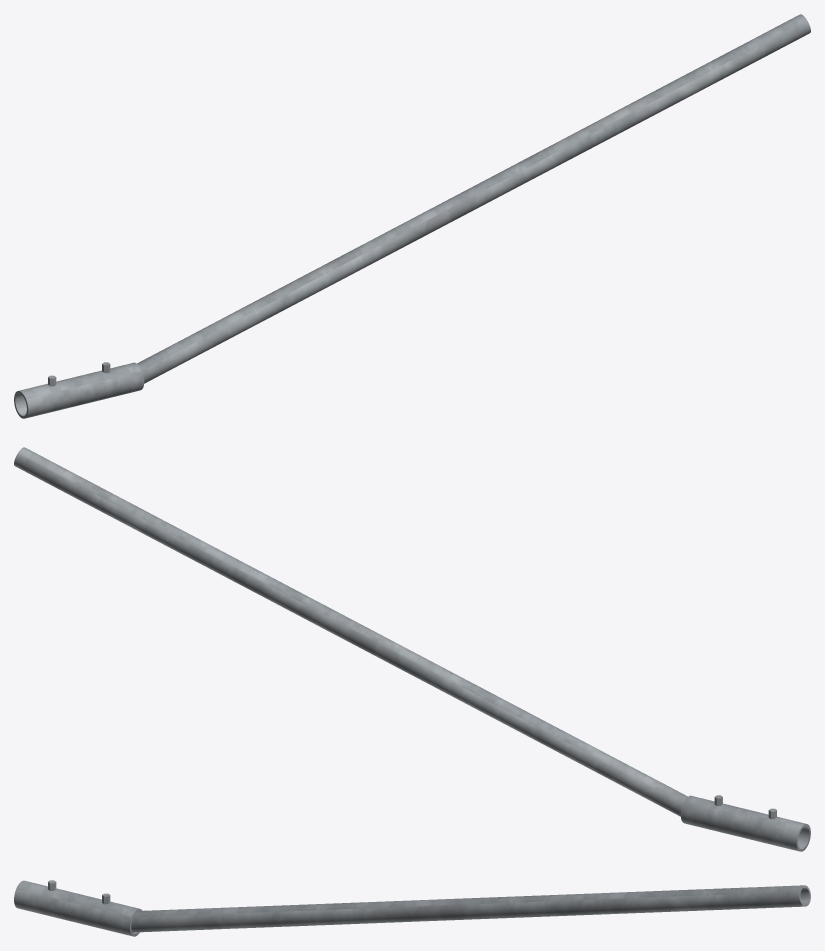
Rendered from ELE-IPU-003_lod1.glb.
The picture shows the model from 3 angles, top to bottom: view 1: azimuth 30°, elevation 25°; view 2: azimuth 150°, elevation 25°; view 3: azimuth 330°, elevation 25°; orthographic projection.
Parts seen in each view (by area): view 1: ELE-IPU-003_braco, ELE-IPU-003_luva; view 2: ELE-IPU-003_braco, ELE-IPU-003_luva; view 3: ELE-IPU-003_braco, ELE-IPU-003_luva.
Part boxes in pixels (left/top/right/bottom): ELE-IPU-003_braco: left=137, top=14, right=810, bottom=383; ELE-IPU-003_luva: left=14, top=362, right=144, bottom=418; ELE-IPU-003_braco: left=14, top=447, right=687, bottom=816; ELE-IPU-003_luva: left=680, top=795, right=810, bottom=851; ELE-IPU-003_braco: left=131, top=885, right=810, bottom=932; ELE-IPU-003_luva: left=14, top=880, right=142, bottom=936.
Bounding box in the file's own units: 2.03 × 0.5244 × 0.064.
1 material, 1 textured.
